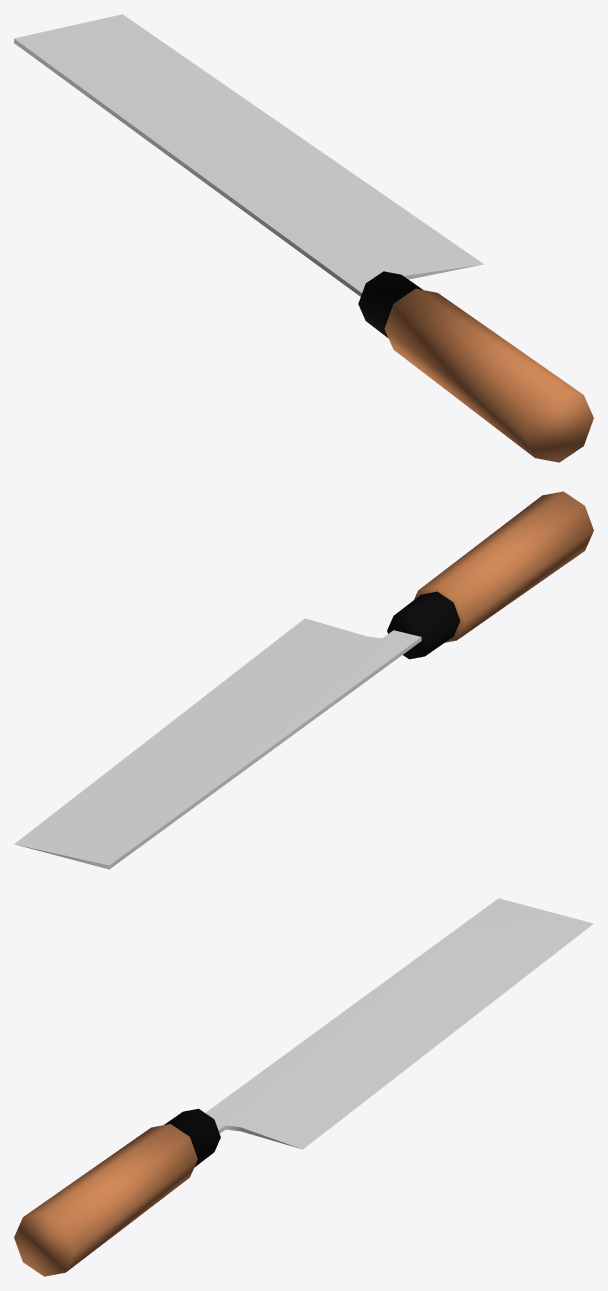
File: KitchenKnife02.glb
3 views of the same model, one above another, from view 1: azimuth 30°, elevation 25°; view 2: azimuth 150°, elevation 25°; view 3: azimuth 330°, elevation 25° (orthographic). The views are drawn at different scales.
Parts seen in each view (by area): view 1: Plane; view 2: Plane; view 3: Plane.
Part boxes in pixels (left/top/right/bottom): Plane: left=14, top=14, right=593, bottom=462; Plane: left=14, top=491, right=593, bottom=869; Plane: left=14, top=898, right=593, bottom=1276.
Size of the model in its own units: 0.1777 by 0.0851 by 1.13.
